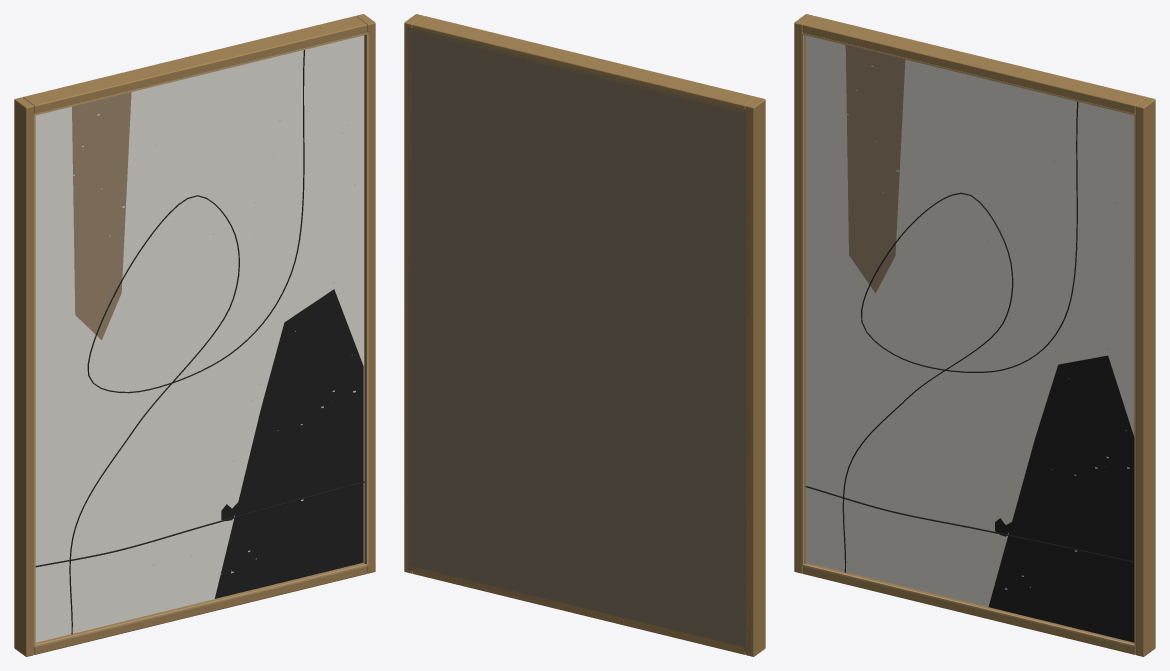
Rendered from kairne-abstract-3.glb.
The picture shows the model from 3 angles, left to right: view 1: azimuth 30°, elevation 25°; view 2: azimuth 150°, elevation 25°; view 3: azimuth 330°, elevation 25°; orthographic projection.
Visible parts, largest first — view 1: Ivory canvas, Abstract charcoal paint, Light oak frame, Warm taupe abstract paint, Frame bevel highlight; view 2: Frame backing, Light oak frame; view 3: Ivory canvas, Abstract charcoal paint, Light oak frame, Warm taupe abstract paint, Frame bevel highlight.
Part boxes in pixels (box(x1,y1,x2,y2)): Ivory canvas: box(35, 35, 364, 642); Abstract charcoal paint: box(35, 50, 364, 634); Light oak frame: box(14, 14, 375, 656); Warm taupe abstract paint: box(72, 92, 131, 340); Frame bevel highlight: box(34, 32, 368, 647); Frame backing: box(407, 27, 750, 652); Light oak frame: box(404, 14, 765, 656); Ivory canvas: box(805, 35, 1134, 642); Abstract charcoal paint: box(805, 101, 1134, 642); Light oak frame: box(794, 14, 1155, 656); Warm taupe abstract paint: box(845, 45, 905, 292); Frame bevel highlight: box(801, 32, 1135, 647).
Size of the model in its own units: 0.4064 by 0.6096 by 0.025.
